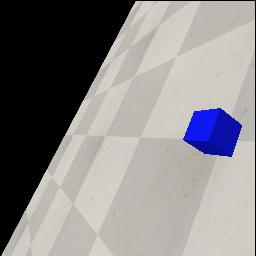box: (183, 108, 242, 157)
